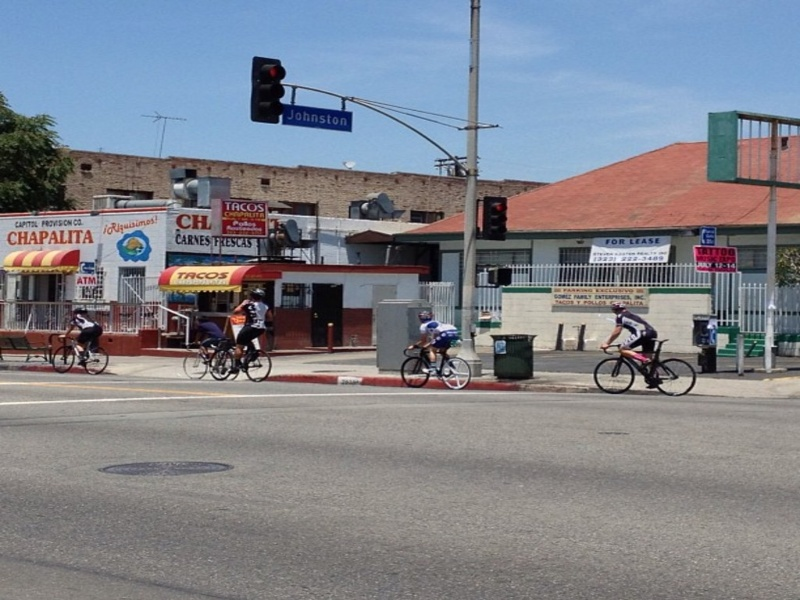red_light: (238, 58, 299, 93)
